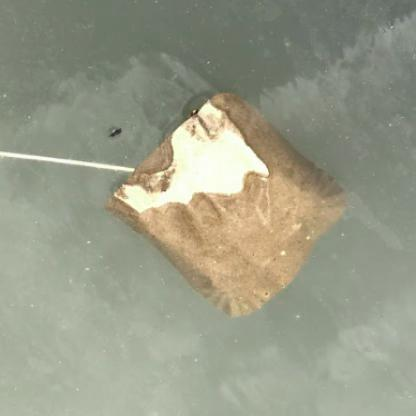Trash: (96, 78, 356, 327)
